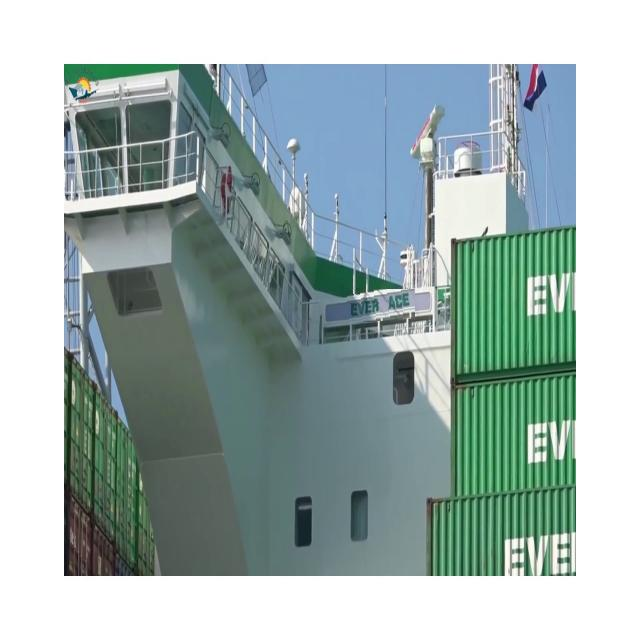OCR: (339, 289, 415, 324)
